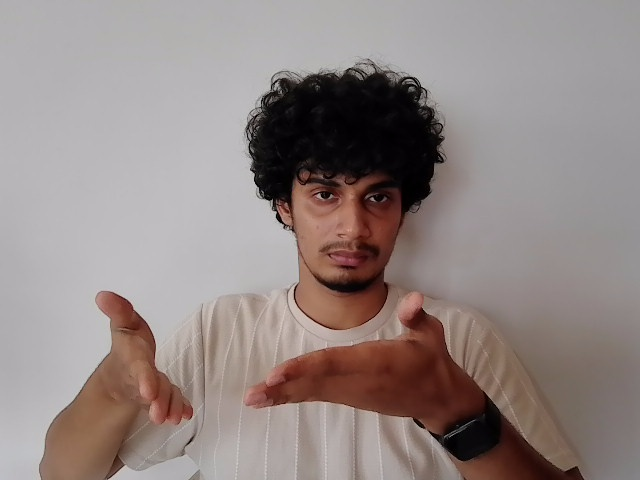here: (89, 289, 460, 422)
